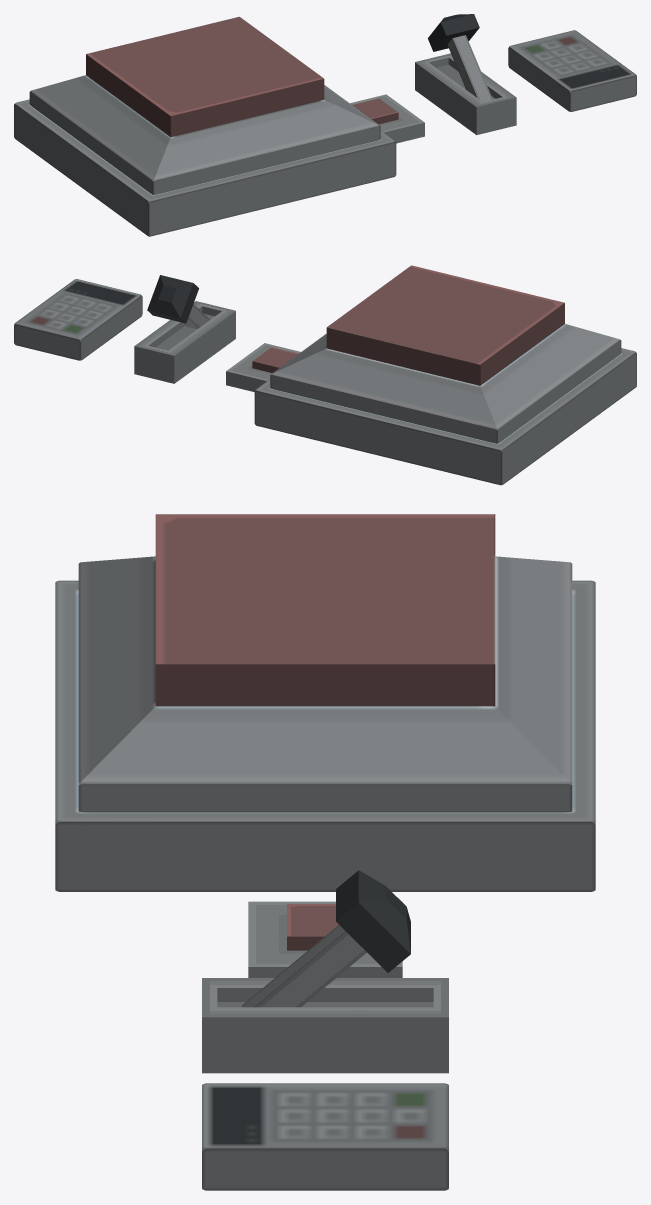
The model's file is Interactives.fbx.
The picture shows the model from 3 angles, top to bottom: view 1: azimuth 30°, elevation 25°; view 2: azimuth 150°, elevation 25°; view 3: azimuth 270°, elevation 25°; orthographic projection. The views are drawn at different scales.
Visible parts, largest first — view 1: GroundButtonBase, GroundButton, Password, LeverBase, Lever, WallButtonBase, WallButton; view 2: GroundButtonBase, GroundButton, Password, LeverBase, Lever, WallButtonBase, WallButton; view 3: GroundButtonBase, GroundButton, Password, LeverBase, Lever, WallButtonBase, WallButton.
Part boxes in pixels (x1,y1,x2,y2): GroundButtonBase: (14, 75, 396, 236); GroundButton: (86, 16, 324, 136); Password: (508, 30, 636, 111); LeverBase: (415, 53, 516, 135); Lever: (428, 14, 492, 101); WallButtonBase: (350, 94, 424, 143); WallButton: (352, 98, 398, 124); GroundButtonBase: (254, 324, 636, 485); GroundButton: (326, 265, 564, 385); Password: (14, 279, 142, 360); LeverBase: (134, 301, 235, 383); Lever: (147, 275, 209, 329); WallButtonBase: (226, 343, 300, 391); WallButton: (252, 347, 298, 372); GroundButtonBase: (55, 556, 595, 891); GroundButton: (155, 514, 495, 706); Password: (202, 1083, 448, 1190); LeverBase: (202, 978, 448, 1073); Lever: (242, 870, 410, 1007); WallButtonBase: (248, 901, 402, 977); WallButton: (287, 904, 338, 950).
Bounding box in the file's own units: 491 × 93.75 × 219.
